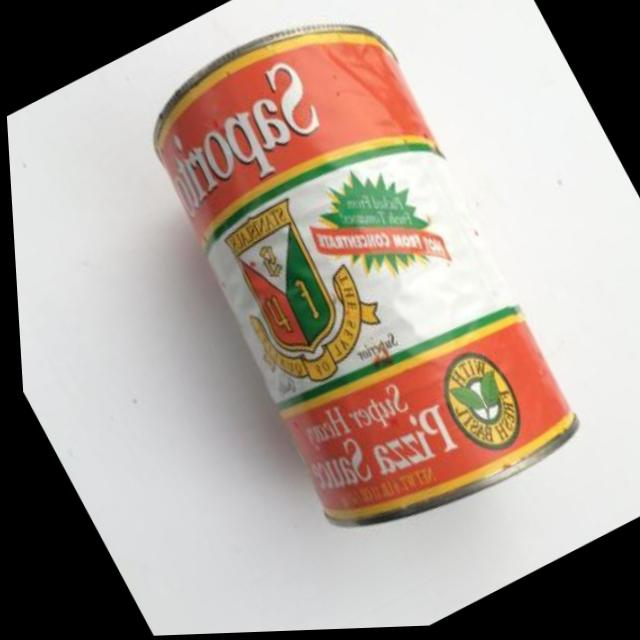metal: (98, 0, 639, 578)
